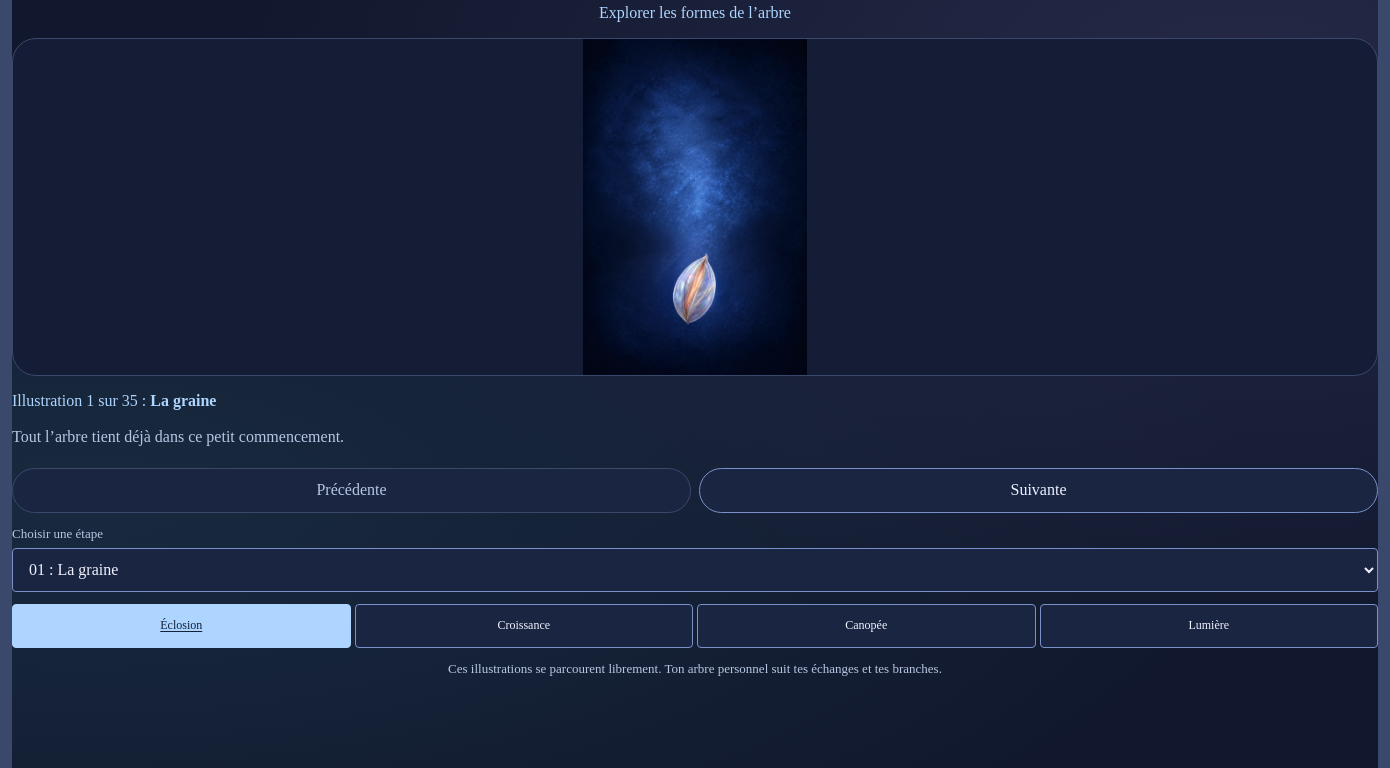
Test: métamorphose de l’arbre — exploration illustrée › se parcourt au clavier natif avec Tab, Entrée et Espace
Press Tab
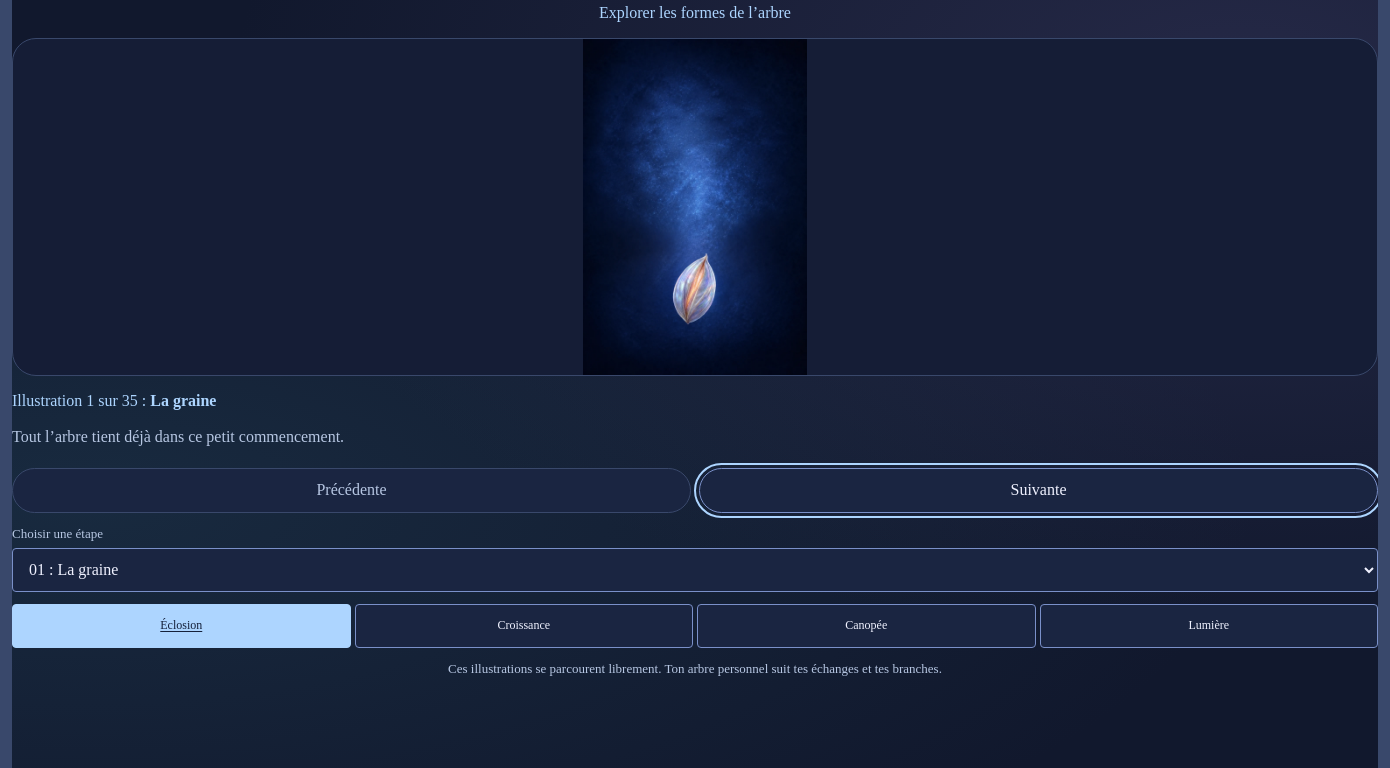
Press Enter
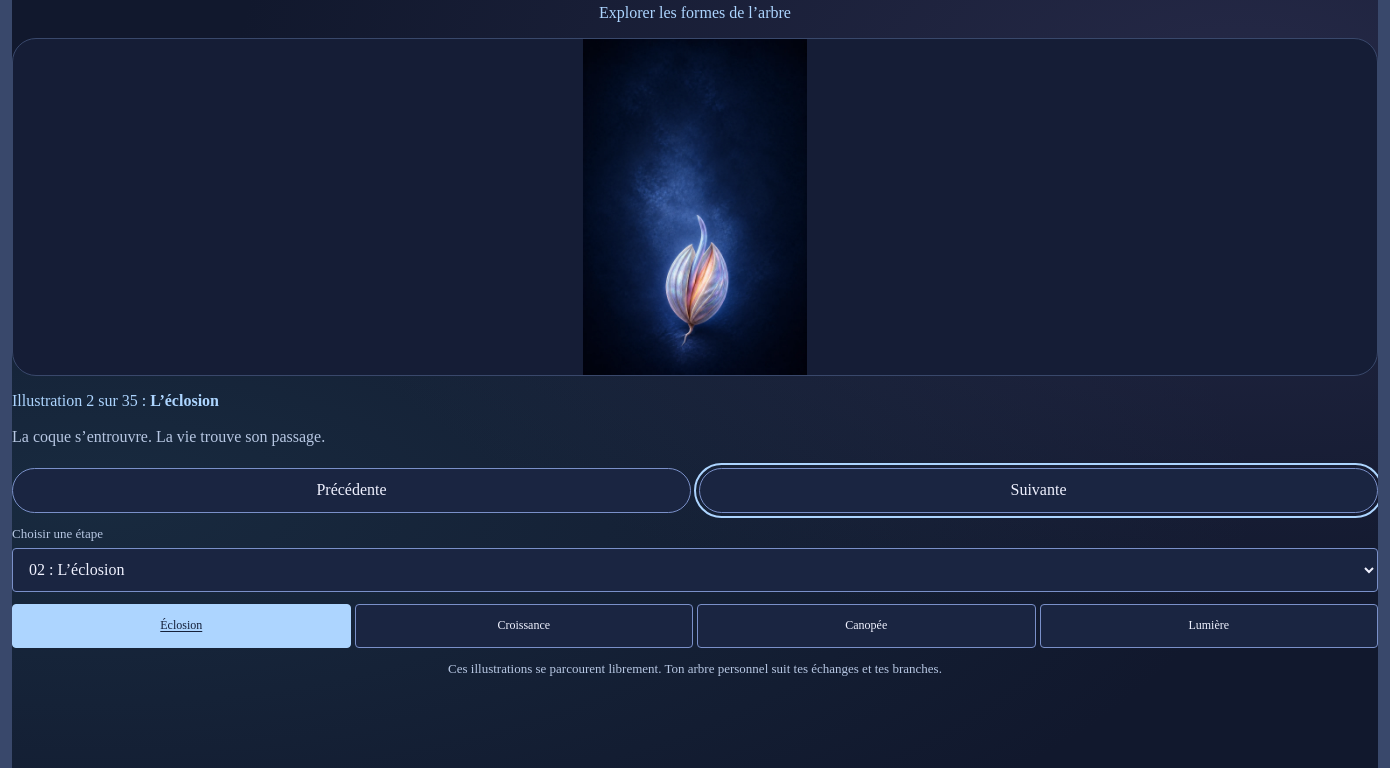
Expected: the text "La coque s’entrouvre. La vie trouve son passage." is shown, [12,428,325,445]
Expected: the dropdown labelled "Choisir une étape" shows "02 : L’éclosion", [12,548,1378,592]
Type keys " "
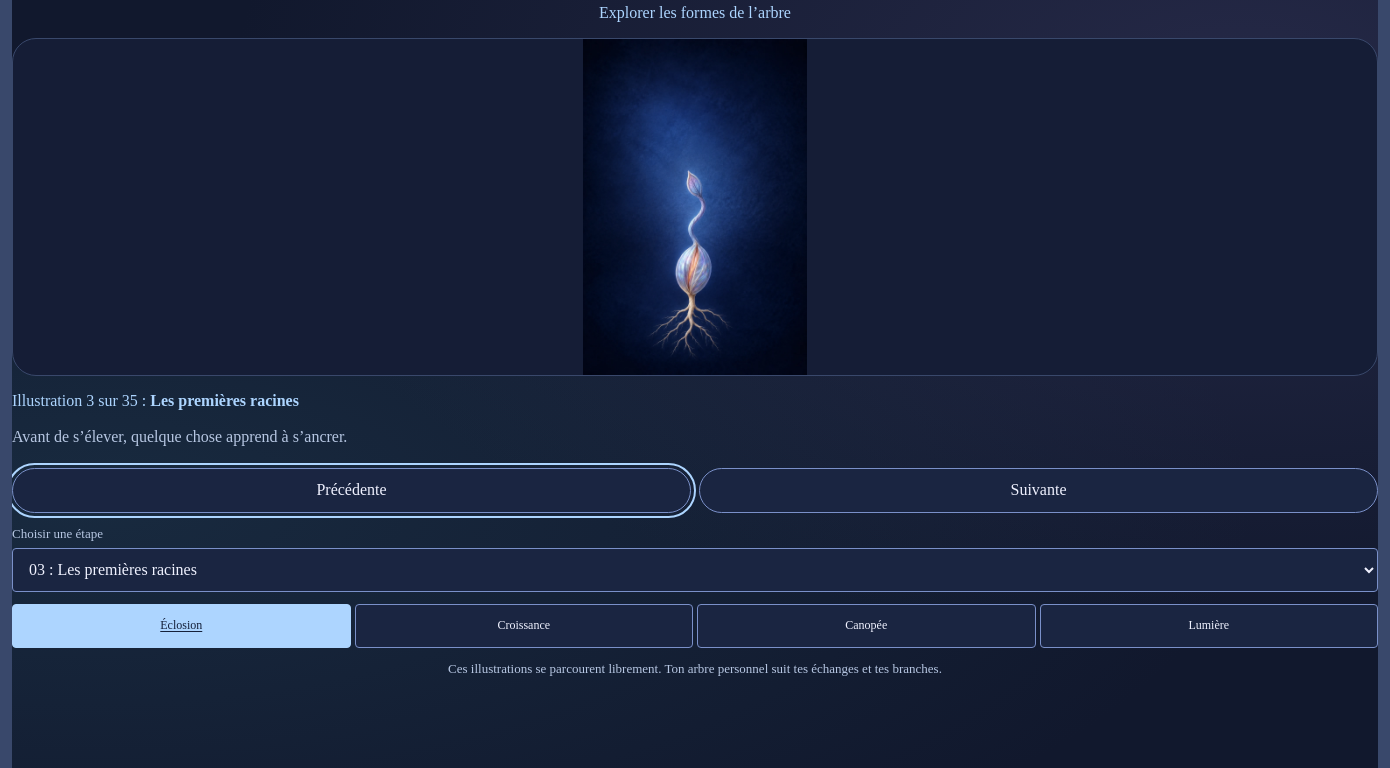
Expected: the text "Avant de s’élever, quelque chose apprend à s’ancrer." is shown, [12,428,347,445]
Expected: the dropdown labelled "Choisir une étape" shows "03 : Les premières racines", [12,548,1378,592]
Type keys " "
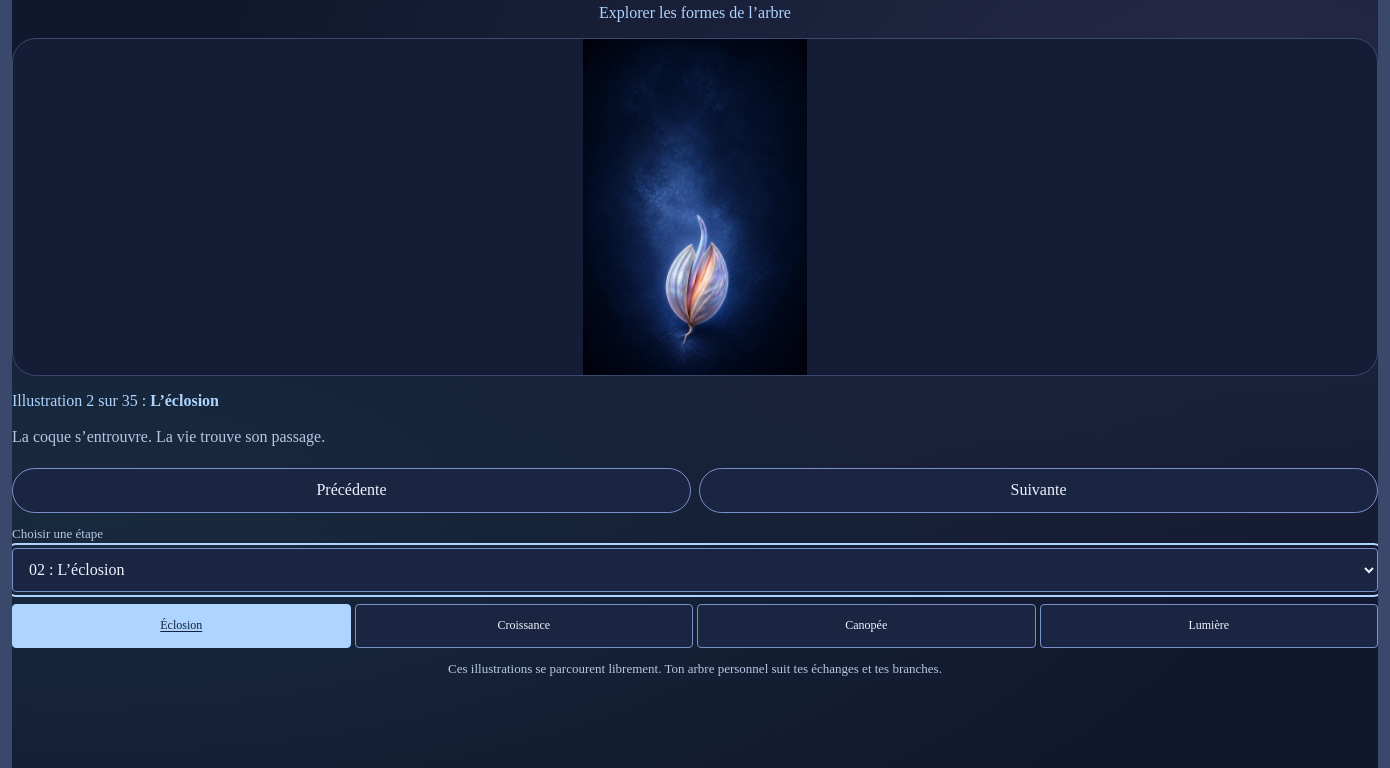
Expected: the text "La coque s’entrouvre. La vie trouve son passage." is shown, [12,428,325,445]
Expected: the dropdown labelled "Choisir une étape" shows "02 : L’éclosion"
Select "35 : Ciel et racines" in the dropdown labelled "Choisir une étape" at x=695, y=570, box [12,548,1378,592]
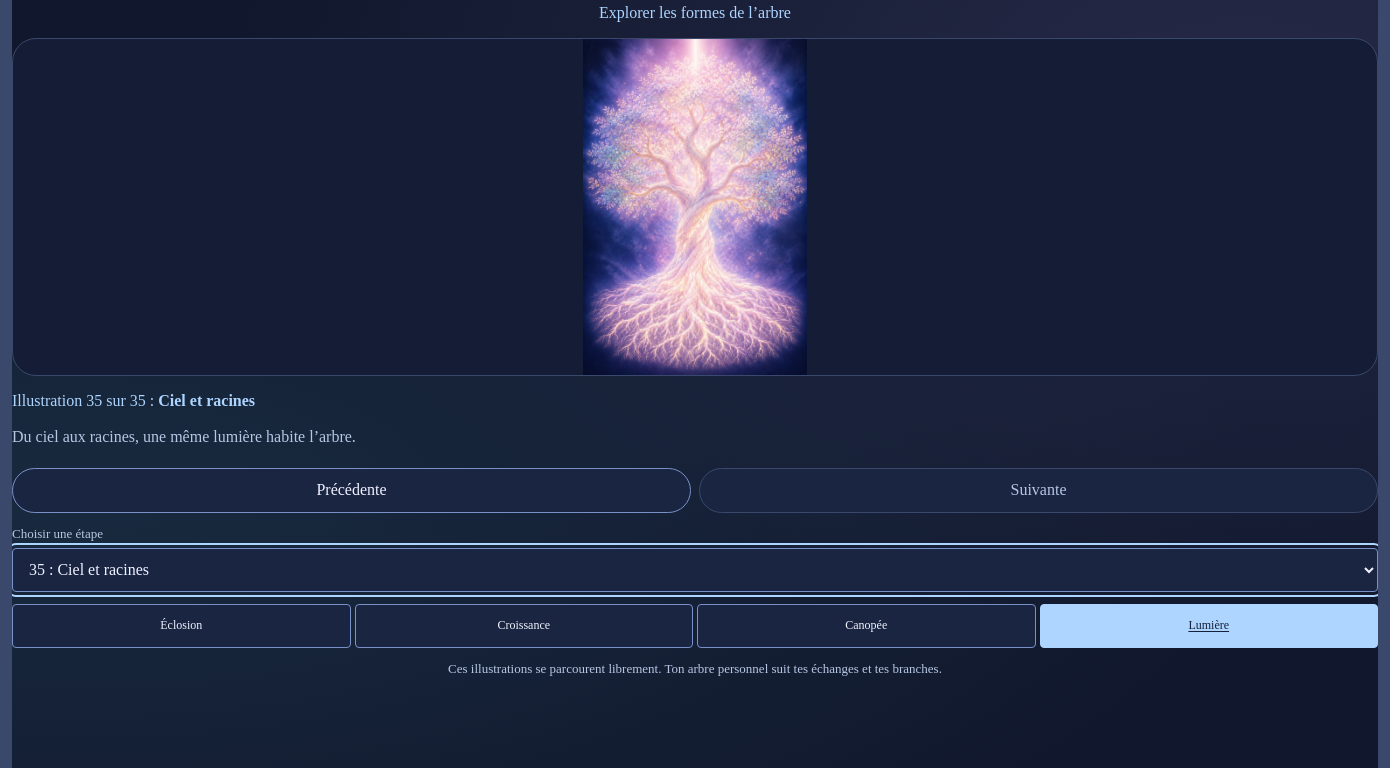
Expected: the text "Du ciel aux racines, une même lumière habite l’arbre." is shown, [12,428,356,445]
